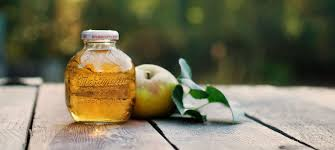bottles: (65, 30, 136, 122)
